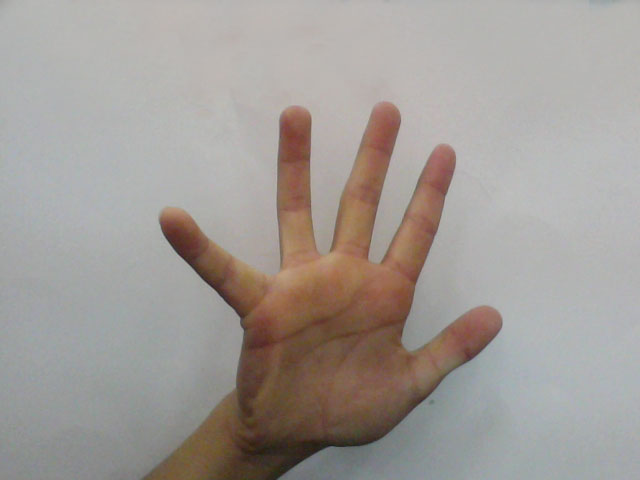hand: (155, 96, 514, 451)
